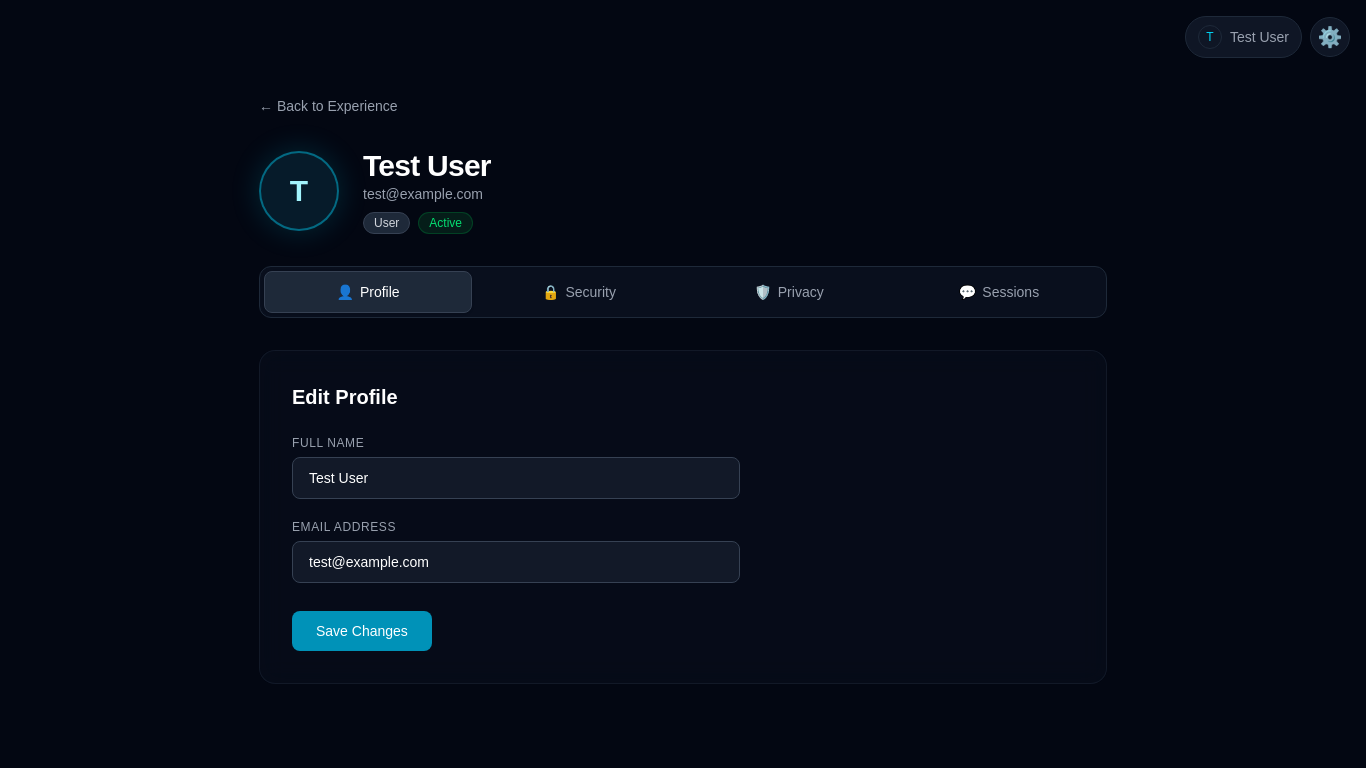
Test: UserProfilePage › handles sessions with missing message count
Note: Click Sessions tab
Click the button "💬Sessions".
click(999, 292)  # box [896, 271, 1102, 313]
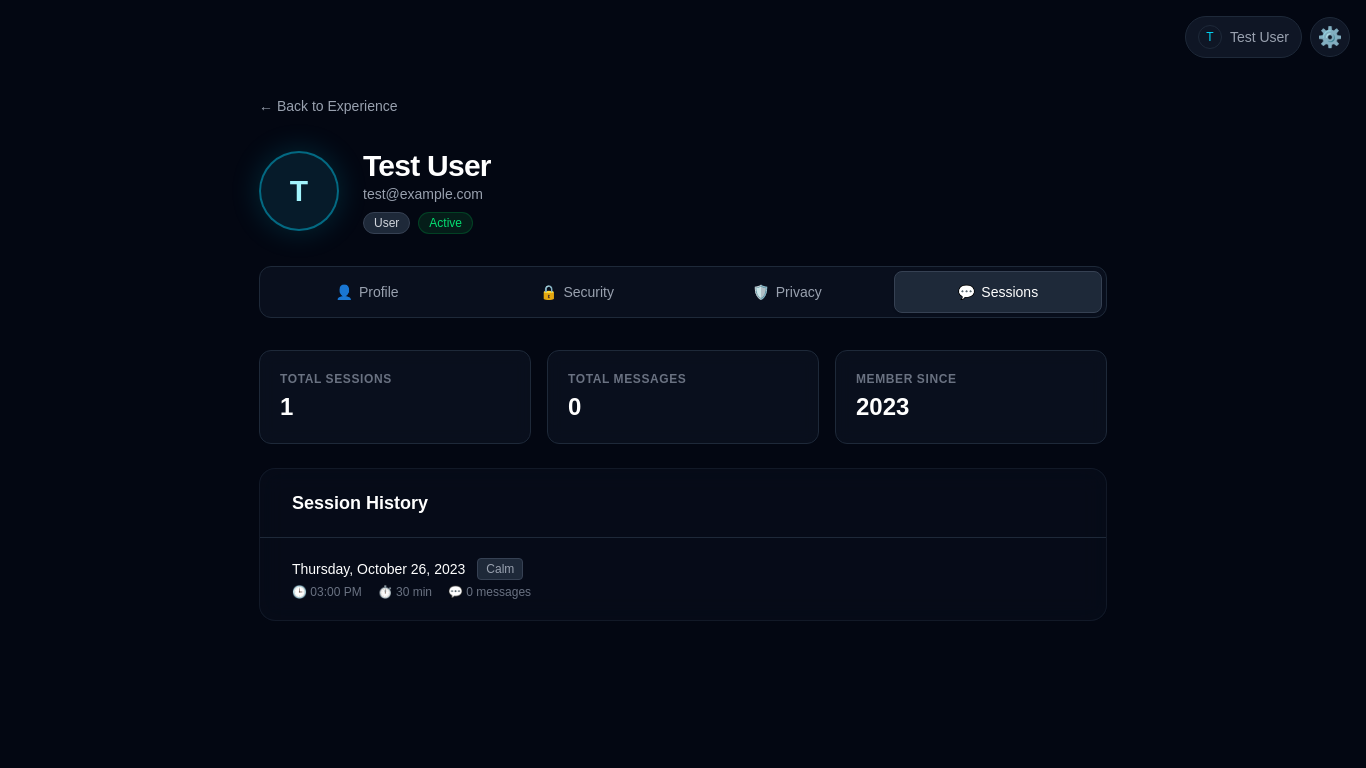
Expected: the text "💬 0 messages" is shown, [448, 584, 531, 600]
